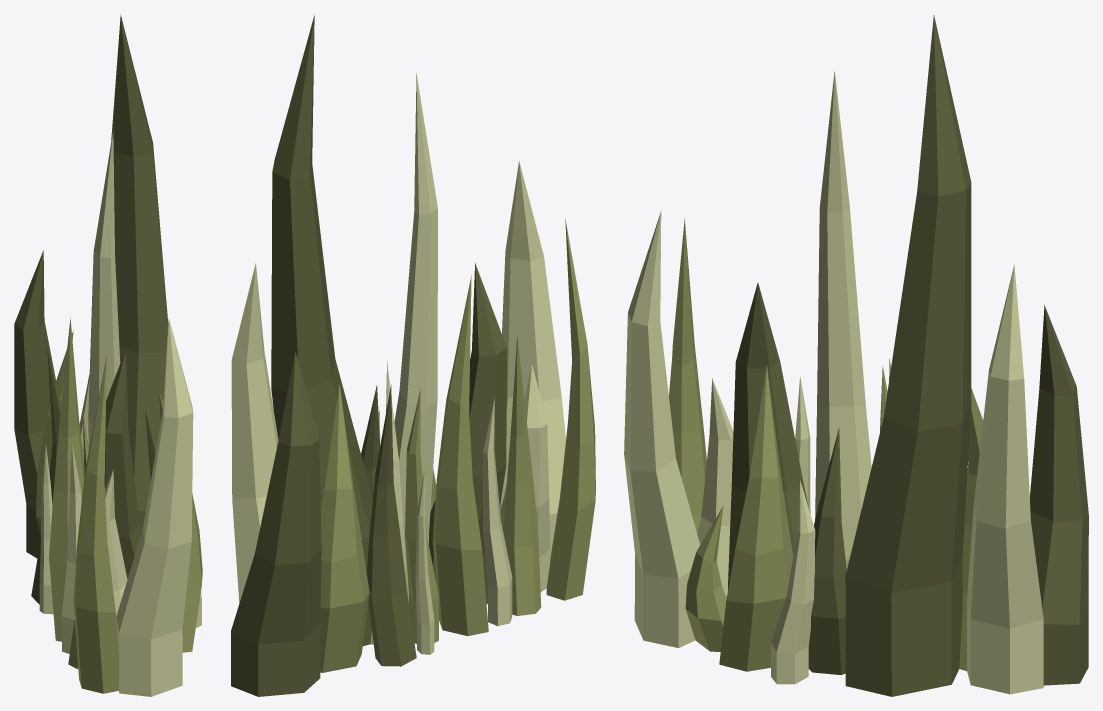
The model's file is Assets.fbx_GrassGroup.fbx.
The picture shows the model from 3 angles, left to right: view 1: azimuth 30°, elevation 25°; view 2: azimuth 150°, elevation 25°; view 3: azimuth 270°, elevation 25°; orthographic projection. The views are drawn at different scales.
Parts seen in each view (by area): view 1: Cube.007, Cube.028, Cube.010, Cube.029, Cube.020, Cube.018, Cube.032, Cube.017, Cube.011, Cube.019, Cube.031, Cube.014 (+4 smaller); view 2: Cube.029, Cube.007, Cube.018, Cube.028, Cube.020, Cube.008, Cube.009, Cube.010, Cube.014, Cube.032, Cube.016, Cube.017 (+5 smaller); view 3: Cube.007, Cube.008, Cube.028, Cube.029, Cube.020, Cube.011, Cube.032, Cube.027, Cube.010, Cube.012, Cube.031, Cube.030 (+2 smaller).
Boxes of the visible parts, left/top/right/bottom form: Cube.007: left=111, top=14, right=168, bottom=530; Cube.028: left=116, top=317, right=193, bottom=696; Cube.010: left=73, top=354, right=118, bottom=693; Cube.029: left=14, top=250, right=55, bottom=558; Cube.020: left=88, top=130, right=120, bottom=449; Cube.018: left=49, top=317, right=84, bottom=641; Cube.032: left=104, top=349, right=141, bottom=579; Cube.017: left=62, top=443, right=81, bottom=653; Cube.011: left=159, top=391, right=202, bottom=652; Cube.019: left=39, top=444, right=53, bottom=614; Cube.031: left=105, top=469, right=127, bottom=616; Cube.014: left=31, top=347, right=61, bottom=604; Cube.029: left=231, top=351, right=321, bottom=696; Cube.007: left=271, top=15, right=372, bottom=645; Cube.018: left=432, top=275, right=488, bottom=635; Cube.028: left=500, top=161, right=565, bottom=558; Cube.020: left=394, top=73, right=437, bottom=602; Cube.008: left=231, top=263, right=278, bottom=602; Cube.009: left=320, top=383, right=369, bottom=672; Cube.010: left=546, top=219, right=595, bottom=600; Cube.014: left=366, top=384, right=416, bottom=666; Cube.032: left=429, top=263, right=506, bottom=603; Cube.016: left=503, top=336, right=541, bottom=615; Cube.017: left=483, top=395, right=512, bottom=626; Cube.007: left=845, top=15, right=971, bottom=696; Cube.008: left=967, top=265, right=1043, bottom=694; Cube.028: left=624, top=211, right=700, bottom=647; Cube.029: left=1029, top=305, right=1088, bottom=685; Cube.020: left=815, top=70, right=871, bottom=569; Cube.011: left=719, top=365, right=793, bottom=671; Cube.032: left=728, top=282, right=809, bottom=589; Cube.027: left=808, top=427, right=846, bottom=674; Cube.010: left=669, top=218, right=706, bottom=533; Cube.012: left=771, top=480, right=815, bottom=684; Cube.031: left=697, top=378, right=733, bottom=598; Cube.030: left=685, top=506, right=726, bottom=651.
Size of the model in its own units: 40.36 by 114 by 72.31.
